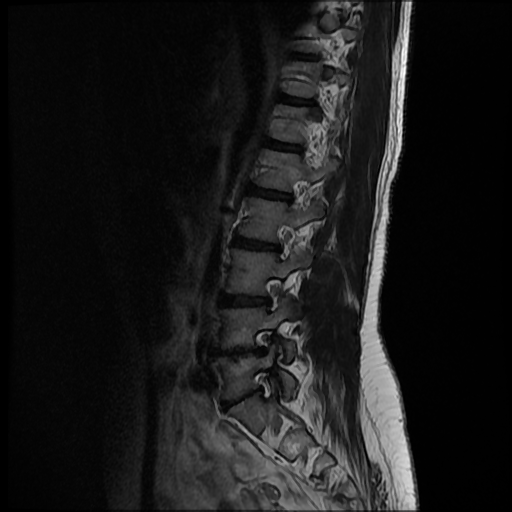RFS0: (254, 268, 290, 319), (244, 321, 286, 363), (245, 361, 283, 407)
